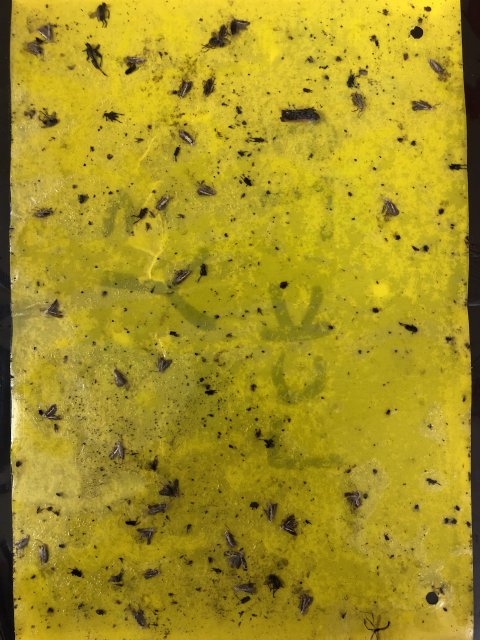DBM: (222, 549, 249, 573), (379, 196, 401, 225), (344, 483, 363, 515), (276, 512, 299, 538), (170, 264, 194, 288), (124, 604, 148, 628), (110, 362, 130, 390), (176, 127, 199, 150), (42, 298, 65, 321), (411, 97, 442, 114), (32, 539, 49, 569), (38, 403, 62, 424), (107, 439, 128, 463), (231, 579, 259, 597), (135, 524, 156, 548), (296, 591, 315, 617), (219, 523, 238, 549), (152, 354, 174, 376), (348, 91, 366, 117), (194, 180, 219, 198), (30, 204, 58, 220), (174, 79, 195, 100), (427, 55, 446, 77), (36, 22, 55, 44), (261, 500, 278, 524), (146, 501, 170, 518), (229, 18, 250, 37), (123, 54, 150, 68), (141, 563, 162, 581), (155, 193, 173, 213), (14, 533, 32, 552)
